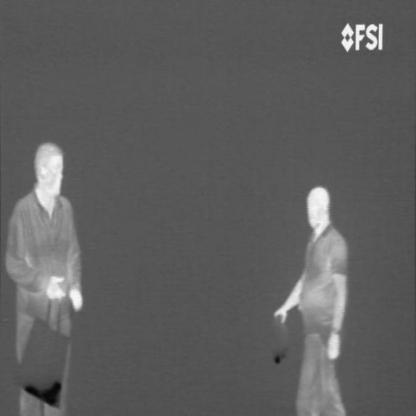weapon: (22, 376, 63, 410)
